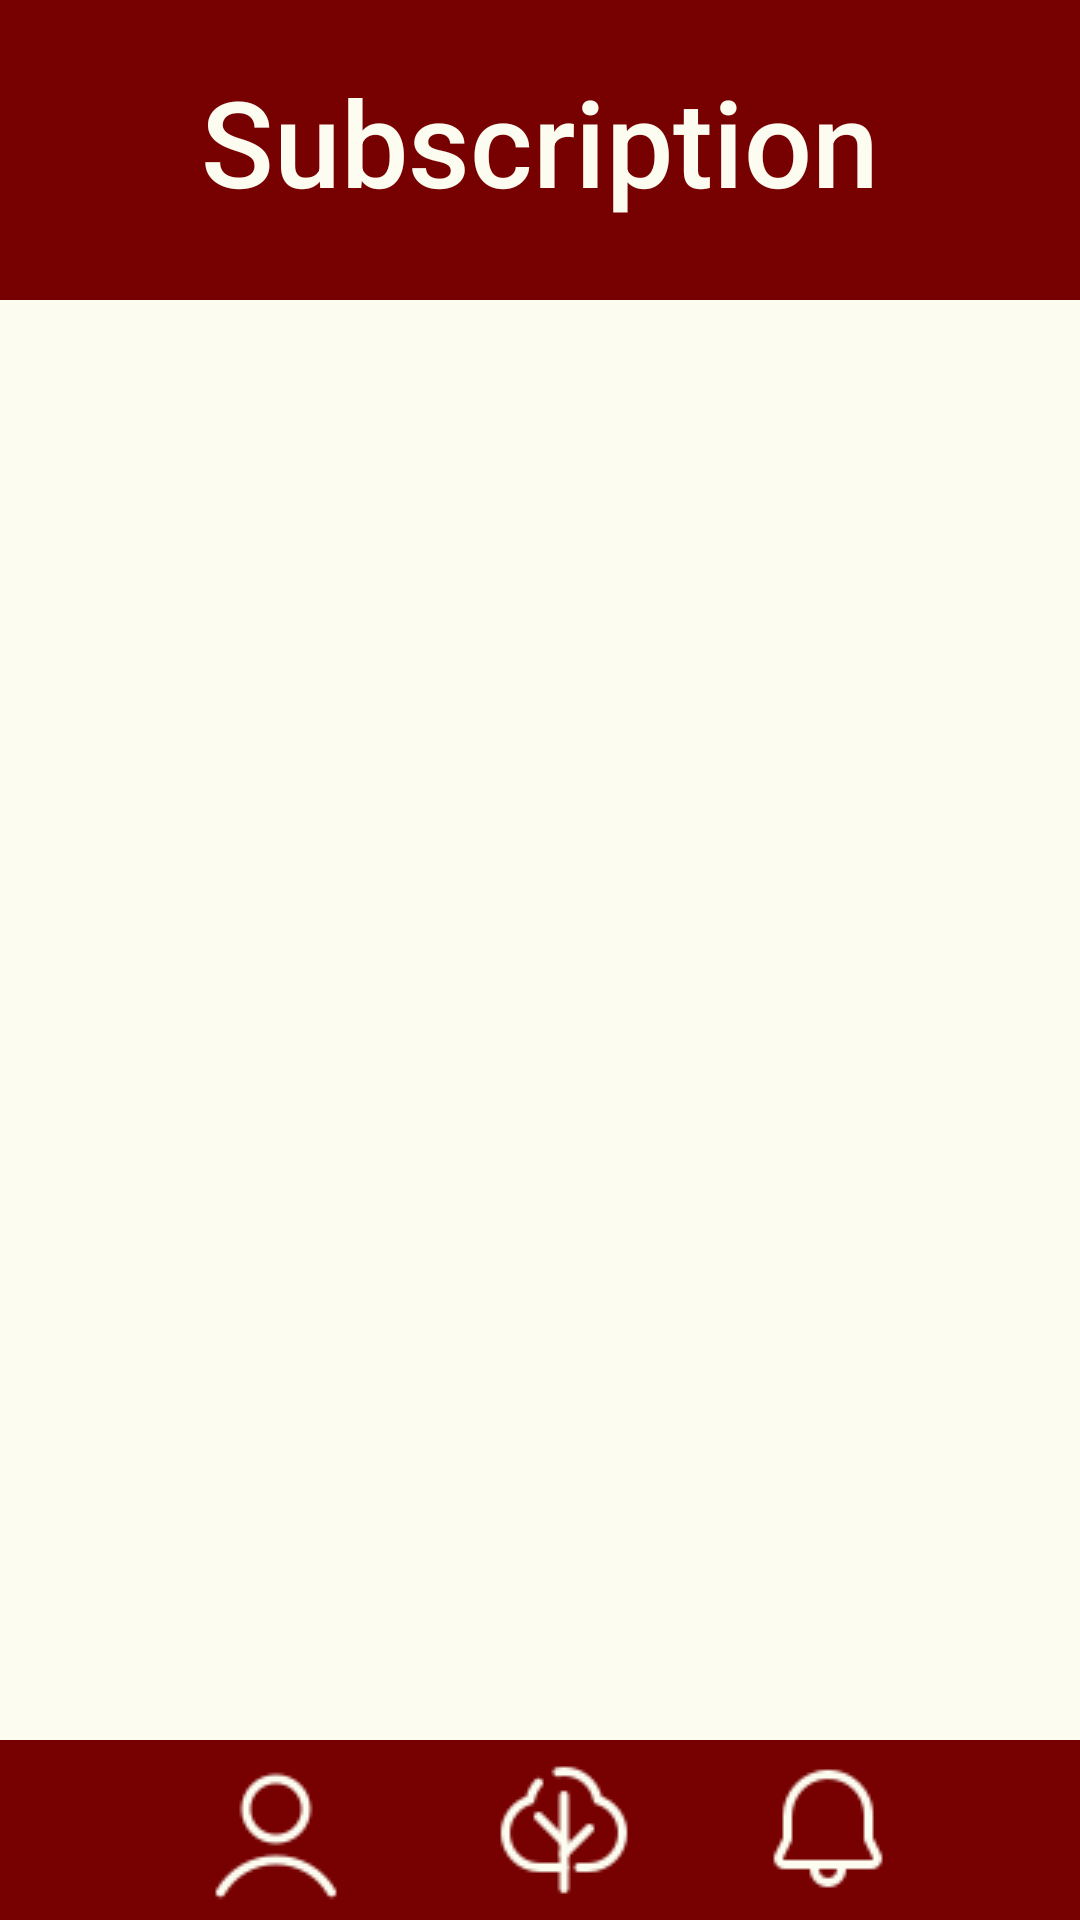

Named icons in this screenshot (1080 x 1920) and their centers, [x,y]:
bell: [828,1828]
profile: [276,1835]
tree: [564,1830]
